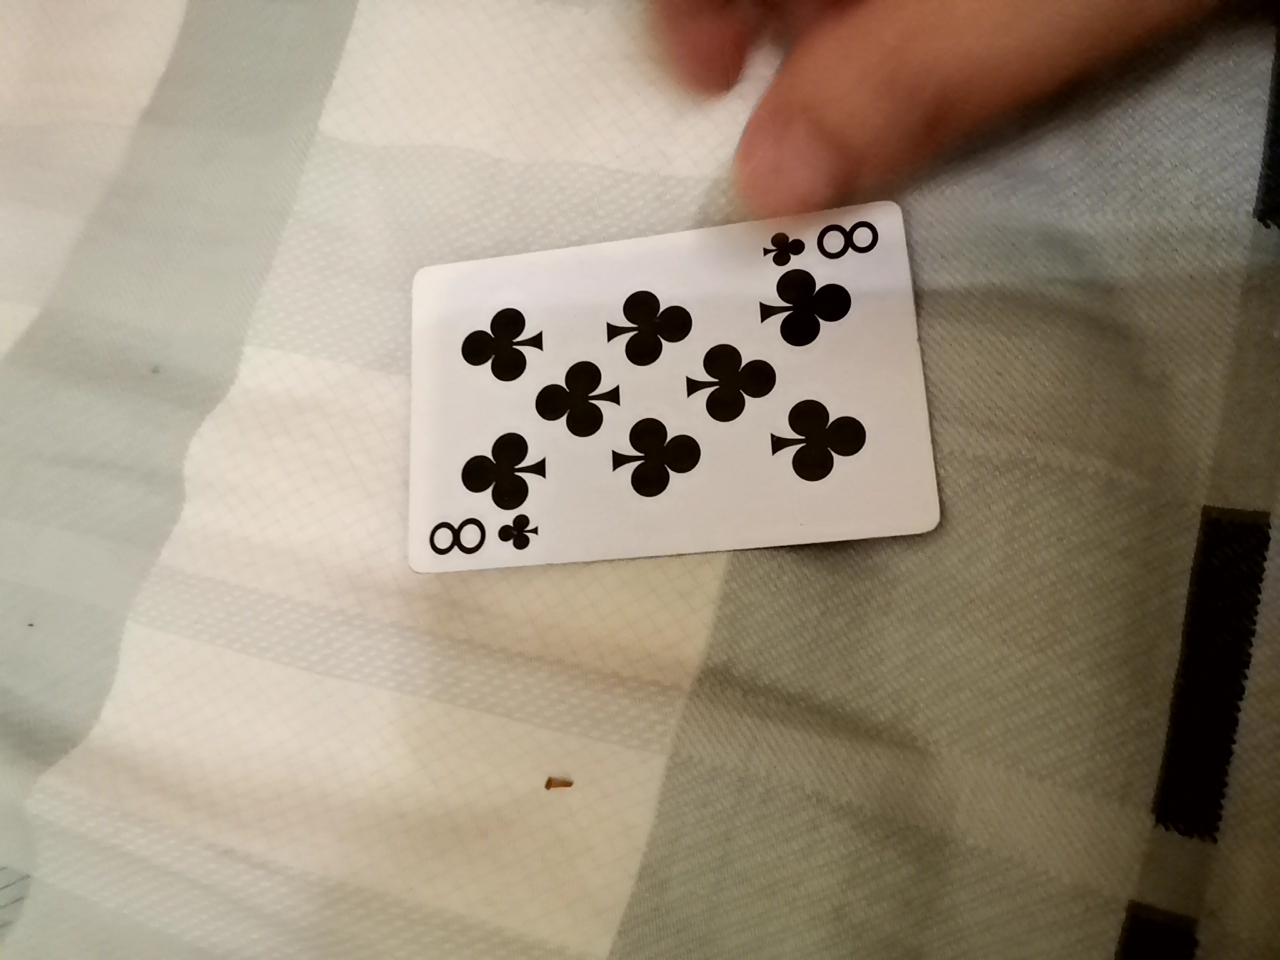mh 8: (368, 198, 935, 571)
